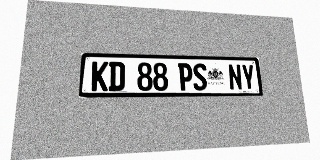8: (137, 62, 153, 91), (153, 62, 168, 91)
D: (108, 62, 125, 91)
K: (91, 61, 109, 91)
N: (228, 64, 243, 90)
P: (178, 63, 193, 91)
S: (192, 63, 207, 91)
Y: (241, 64, 256, 90)
